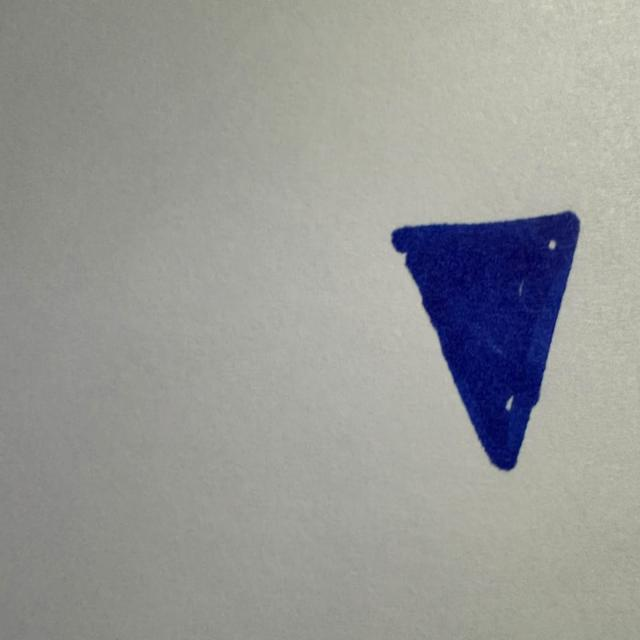Triangle: (392, 211, 580, 470)
